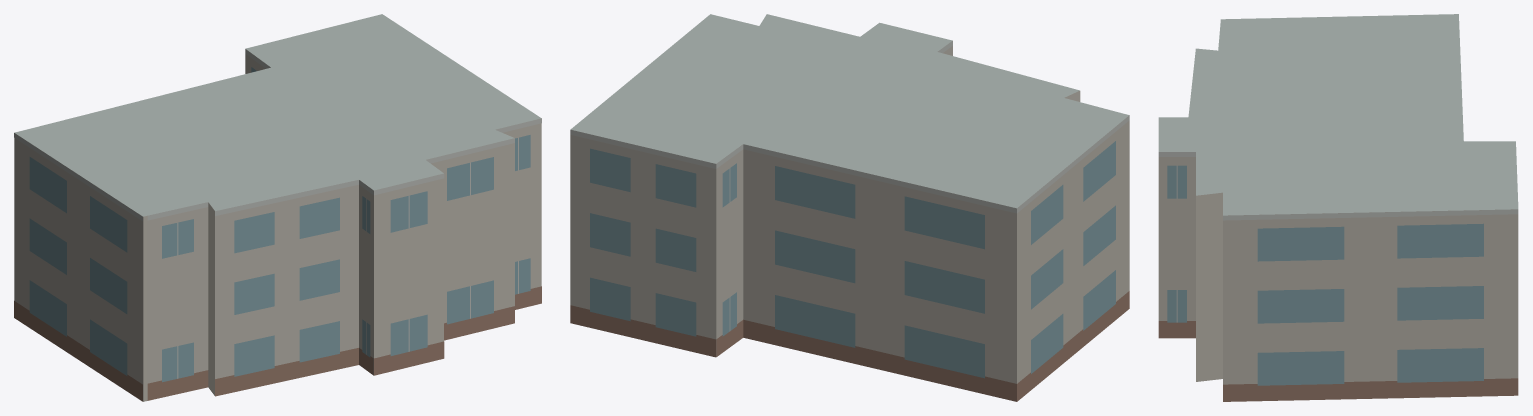
The model's file is survey-upis-33019948.glb.
3 views of the same model, side by side, from view 1: azimuth 30°, elevation 25°; view 2: azimuth 150°, elevation 25°; view 3: azimuth 270°, elevation 25° (orthographic). The views are drawn at different scales.
Visible parts, largest first — view 1: survey-upis-33019948.tmp; view 2: survey-upis-33019948.tmp; view 3: survey-upis-33019948.tmp.
Part boxes in pixels (x1,y1,x2,y2): survey-upis-33019948.tmp: (14,14,541,401); survey-upis-33019948.tmp: (570,14,1129,401); survey-upis-33019948.tmp: (1158,14,1518,401).
Bounding box in the file's own units: 21.24 × 9.15 × 16.03.
